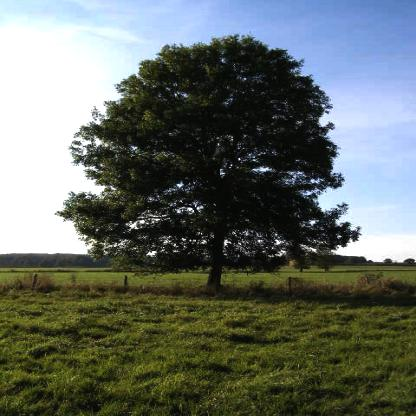Tree: (57, 31, 361, 293)
